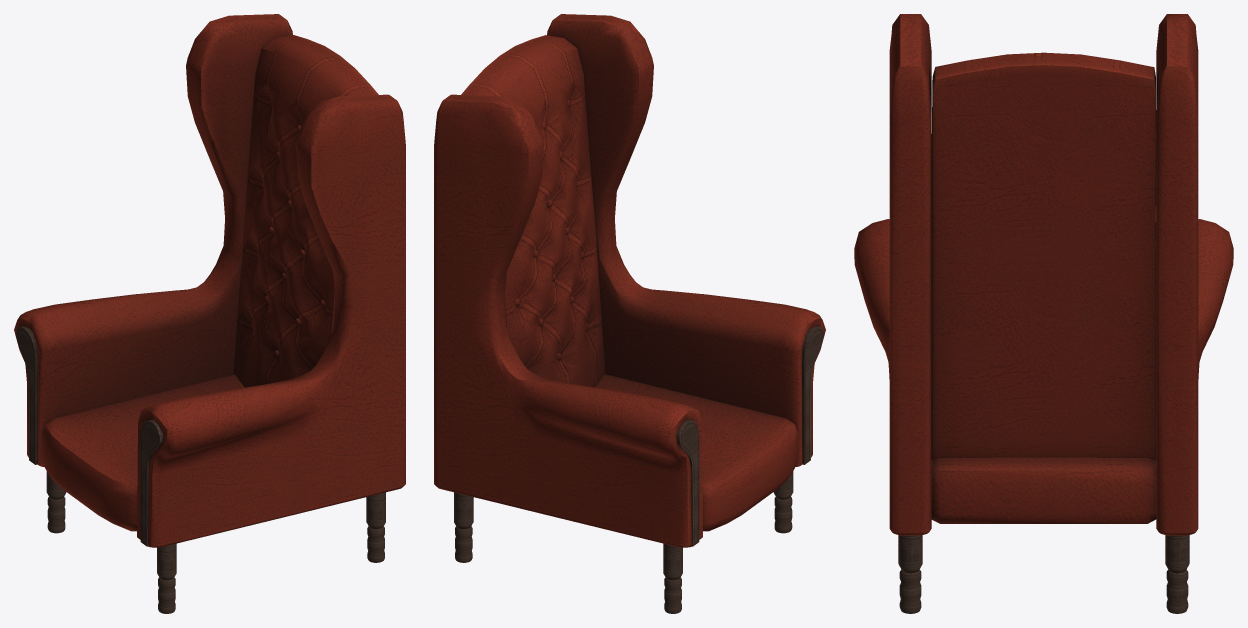
Rendered from obj_red_chair_01b796.glb.
3 views of the same model, side by side, from view 1: azimuth 30°, elevation 25°; view 2: azimuth 150°, elevation 25°; view 3: azimuth 270°, elevation 25° (orthographic). The views are drawn at different scales.
Parts seen in each view (by area): view 1: obj_red_chair_01b796; view 2: obj_red_chair_01b796; view 3: obj_red_chair_01b796.
Boxes of the visible parts, box(x1,y1,x2,y2) form: obj_red_chair_01b796: box(14, 14, 405, 613); obj_red_chair_01b796: box(434, 14, 825, 613); obj_red_chair_01b796: box(854, 14, 1233, 613).
Bounding box in the file's own units: 0.5129 × 0.85 × 0.516.
1 material, 1 textured.
